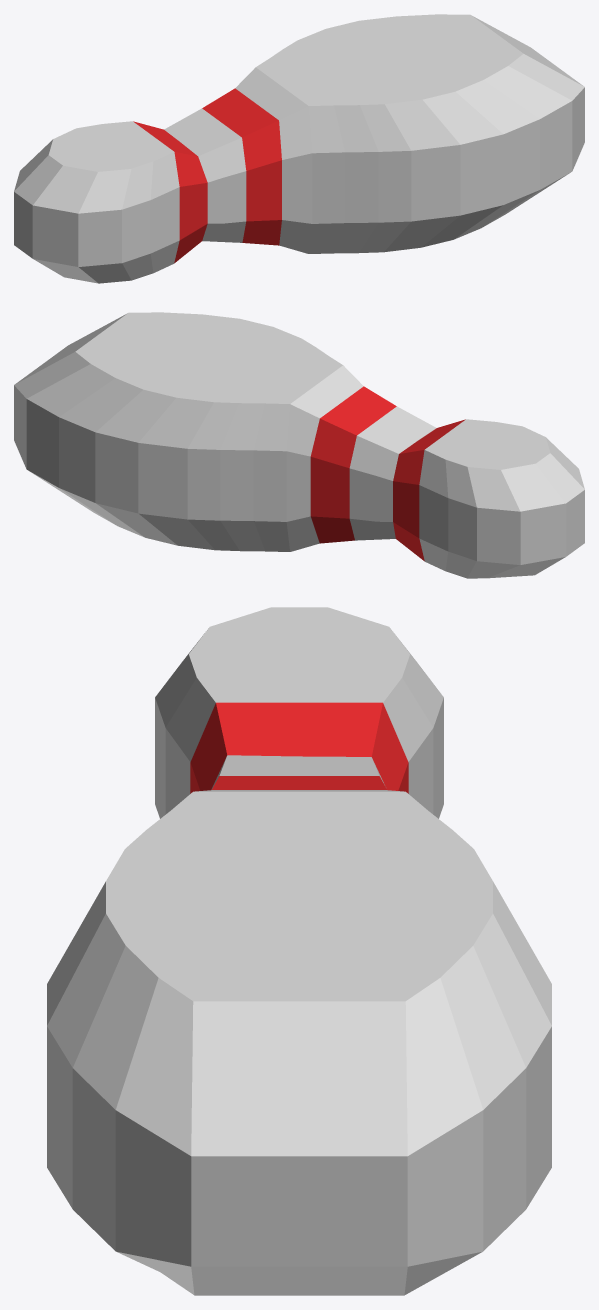
The model's file is QUILLE.fbx.
3 views of the same model, one above another, from view 1: azimuth 30°, elevation 25°; view 2: azimuth 150°, elevation 25°; view 3: azimuth 270°, elevation 25° (orthographic). The views are drawn at different scales.
Parts seen in each view (by area): view 1: Plane; view 2: Plane; view 3: Plane.
Part boxes in pixels (x1=…): Plane: x1=14, y1=14, x2=584, y2=283; Plane: x1=14, y1=312, x2=584, y2=578; Plane: x1=47, y1=607, x2=551, y2=1295.
Bounding box in the file's own units: 214 × 56.64 × 87.41.
